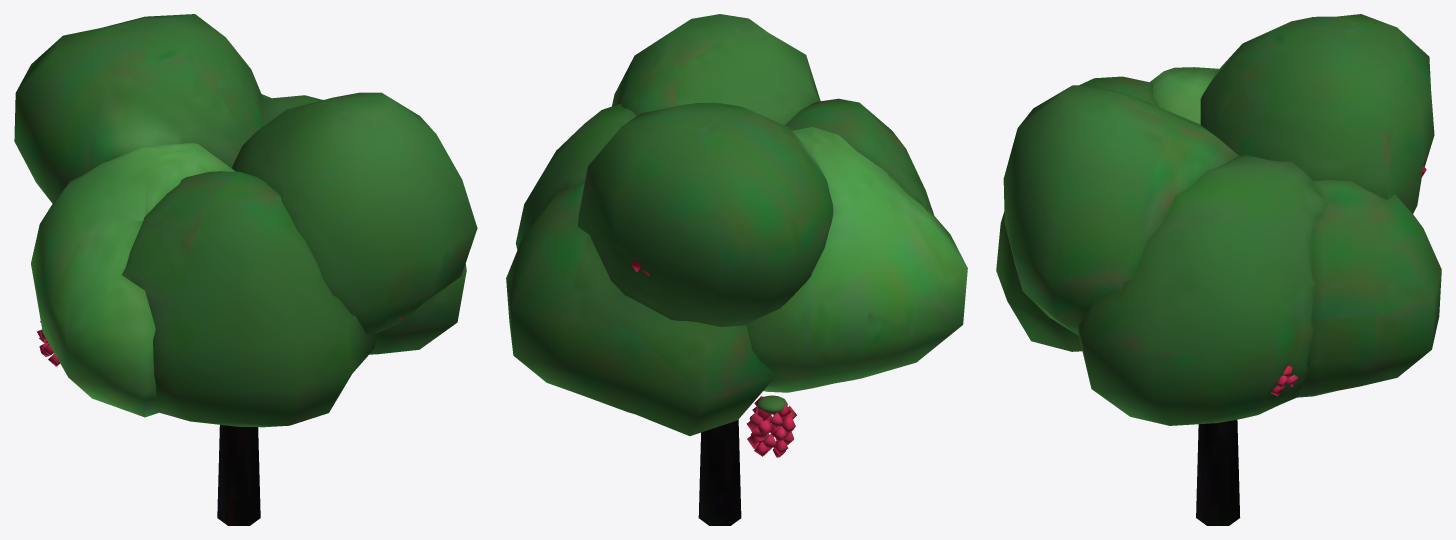
The model's file is crop_raspberry.glb.
3 views of the same model, side by side, from view 1: azimuth 30°, elevation 25°; view 2: azimuth 150°, elevation 25°; view 3: azimuth 270°, elevation 25° (orthographic). The views are drawn at different scales.
Visible parts, largest first — view 1: crop_raspberry; view 2: crop_raspberry, fruit; view 3: crop_raspberry.
Boxes of the visible parts, left/top/right/bottom form: crop_raspberry: left=14, top=14, right=477, bottom=525; crop_raspberry: left=506, top=14, right=967, bottom=525; fruit: left=627, top=252, right=796, bottom=457; crop_raspberry: left=996, top=14, right=1441, bottom=525.
Bounding box in the file's own units: 0.2595 × 0.2798 × 0.2424.
1 material, 1 textured.
